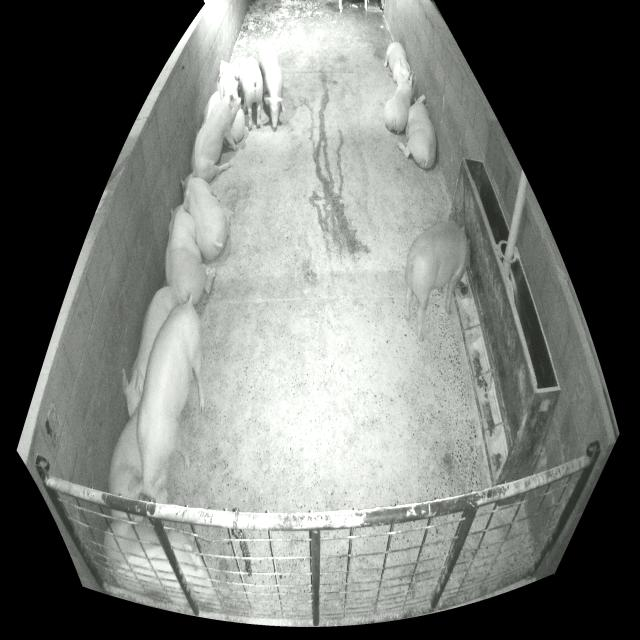pig: (137, 295, 204, 504), (104, 521, 216, 607), (406, 221, 468, 341), (122, 286, 178, 417), (181, 167, 230, 260), (190, 95, 241, 183), (165, 198, 206, 305), (108, 407, 142, 500), (397, 95, 436, 169), (259, 42, 283, 127), (385, 75, 415, 134), (240, 57, 263, 131), (384, 42, 414, 86), (217, 61, 238, 100), (202, 91, 220, 127)
